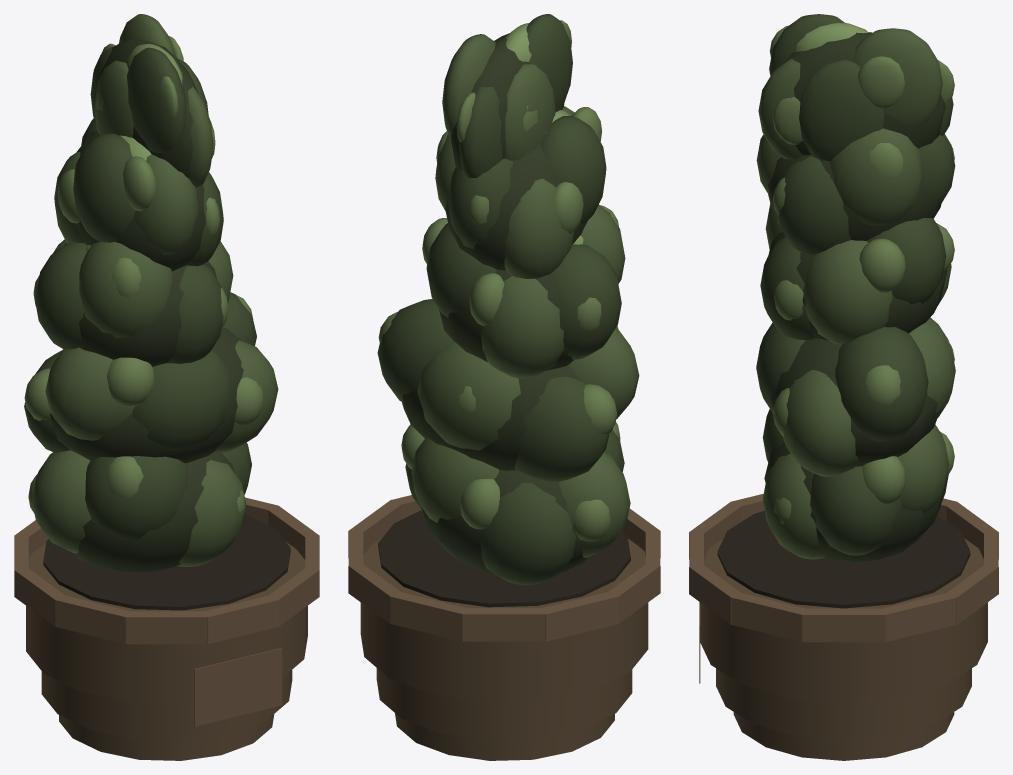
File: CMU3DPottedPlant4.glb
3 renders of one model, left to right at view 1: azimuth 30°, elevation 25°; view 2: azimuth 150°, elevation 25°; view 3: azimuth 270°, elevation 25°, orthographic. The views are drawn at different scales.
Visible parts, largest first — view 1: rounded irregular leaf spray (×21), shadowed foliage core (×5), upper pot wall, recessed soil, fine leafy crown edge (×8), lower tapered pot wall, pot front highlight, narrow pot foot, hollow curved planter rim 09, hollow curved planter rim 10, hollow curved planter rim 08, hollow curved planter rim 07 (+6 smaller); view 2: rounded irregular leaf spray (×19), upper pot wall, shadowed foliage core (×5), recessed soil, lower tapered pot wall, fine leafy crown edge (×8), narrow pot foot, hollow curved planter rim 05, hollow curved planter rim 04, hollow curved planter rim 06, hollow curved planter rim 07, hollow curved planter rim 03 (+5 smaller); view 3: rounded irregular leaf spray (×19), upper pot wall, shadowed foliage core (×5), recessed soil, fine leafy crown edge (×8), lower tapered pot wall, narrow pot foot, hollow curved planter rim 01, hollow curved planter rim 02, hollow curved planter rim 12, hollow curved planter rim 03, hollow curved planter rim 11 (+5 smaller).
Boxes of the visible parts, box(x1,y1,x2,y2) form: rounded irregular leaf spray (×21): box(24, 14, 278, 566); shadowed foliage core (×5): box(50, 38, 243, 573); upper pot wall: box(26, 542, 307, 703); recessed soil: box(43, 513, 290, 610); fine leafy crown edge (×8): box(24, 76, 263, 499); lower tapered pot wall: box(41, 670, 292, 740); pot front highlight: box(194, 648, 282, 726); narrow pot foot: box(59, 714, 274, 760); hollow curved planter rim 09: box(125, 611, 208, 644); hollow curved planter rim 10: box(200, 594, 278, 644); hollow curved planter rim 08: box(55, 595, 129, 644); hollow curved planter rim 07: box(14, 567, 67, 626); rounded irregular leaf spray (×19): box(377, 14, 639, 585); upper pot wall: box(360, 537, 648, 701); shadowed foliage core (×5): box(402, 33, 613, 575); recessed soil: box(378, 510, 630, 607); lower tapered pot wall: box(376, 668, 632, 739); fine leafy crown edge (×8): box(401, 92, 617, 541); narrow pot foot: box(395, 713, 614, 760); hollow curved planter rim 05: box(462, 608, 546, 641); hollow curved planter rim 04: box(390, 591, 465, 641); hollow curved planter rim 06: box(543, 591, 618, 641); hollow curved planter rim 07: box(608, 563, 660, 623); hollow curved planter rim 03: box(348, 564, 400, 623); rounded irregular leaf spray (×19): box(756, 14, 955, 559); upper pot wall: box(700, 538, 987, 702); shadowed foliage core (×5): box(764, 32, 947, 562); recessed soil: box(717, 510, 970, 608); fine leafy crown edge (×8): box(773, 56, 905, 503); lower tapered pot wall: box(716, 668, 971, 739); narrow pot foot: box(733, 712, 954, 760); hollow curved planter rim 01: box(802, 608, 885, 642); hollow curved planter rim 02: box(882, 592, 957, 641); hollow curved planter rim 12: box(730, 592, 805, 641); hollow curved planter rim 03: box(947, 564, 998, 624); hollow curved planter rim 11: box(689, 564, 740, 624).
Bounding box in the file's own units: 0.3869 × 0.9492 × 0.3869.
